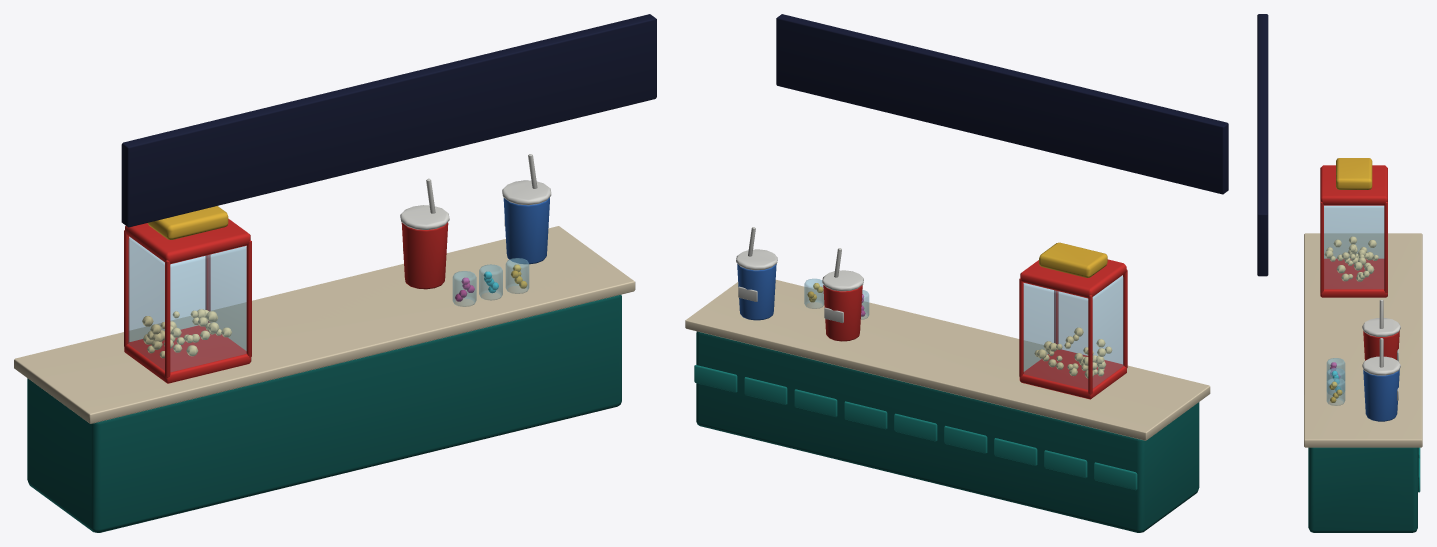
Rendered from SM_Cinema_Concessions.fbx.
The picture shows the model from 3 angles, left to right: view 1: azimuth 30°, elevation 25°; view 2: azimuth 150°, elevation 25°; view 3: azimuth 270°, elevation 25°; orthographic projection. The views are drawn at different scales.
Visible parts, largest first — view 1: SM_Cinema_Concessions; view 2: SM_Cinema_Concessions; view 3: SM_Cinema_Concessions.
Boxes of the visible parts, x1,y1,x2,y2 form: SM_Cinema_Concessions: [14, 14, 656, 532]; SM_Cinema_Concessions: [685, 14, 1228, 532]; SM_Cinema_Concessions: [1257, 14, 1422, 532].
Bounding box in the file's own units: 536 × 388 × 181.
